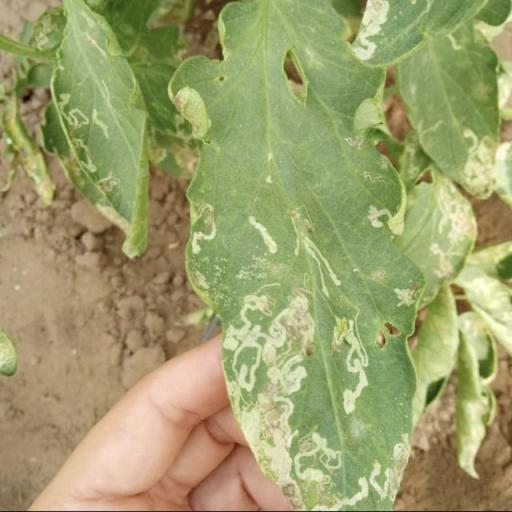disease_tomato: (169, 0, 426, 512), (52, 0, 152, 260)
